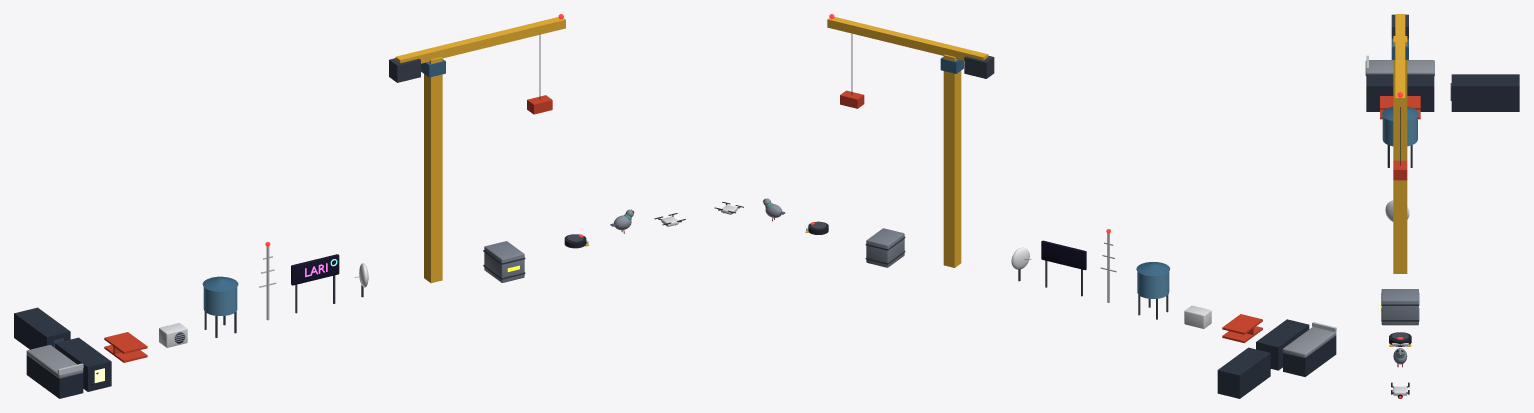
Rendered from kit_kota.glb.
The picture shows the model from 3 angles, left to right: view 1: azimuth 30°, elevation 25°; view 2: azimuth 150°, elevation 25°; view 3: azimuth 270°, elevation 25°; orthographic projection. The views are drawn at different scales.
Visible parts, largest first — view 1: CraneMast, CraneJib, KotaTF2, kota_TF, KotaBoxBody, kota_TT_dirt, NeonBoard, kota_TT_cap, TankBody, CraneWeight; view 2: CraneMast, KotaTF2, CraneJib, kota_TF, KotaBoxBody, kota_TT_dirt, NeonBoard, kota_TT_cap, TankBody, CraneWeight; view 3: KotaTF2, CraneMast, kota_TF, KotaBoxBody, CraneJib, kota_TT_cap, TankBody, GirderTop, CraneLoad, TankLid, CraneWeight, DishBowl (+2 smaller).
Part boxes in pixels (<box>): CraneMast: <box>424,57,442,283</box>; CraneJib: <box>395,17,565,63</box>; KotaTF2: <box>14,307,70,349</box>; kota_TF: <box>55,337,111,391</box>; KotaBoxBody: <box>484,241,524,282</box>; kota_TT_dirt: <box>26,355,83,398</box>; NeonBoard: <box>291,254,339,285</box>; kota_TT_cap: <box>26,345,83,378</box>; TankBody: <box>203,287,237,315</box>; CraneWeight: <box>389,58,420,82</box>; CraneMast: <box>943,54,961,267</box>; KotaTF2: <box>1217,347,1270,398</box>; CraneJib: <box>827,17,988,60</box>; kota_TF: <box>1256,319,1309,370</box>; KotaBoxBody: <box>866,228,904,267</box>; kota_TT_dirt: <box>1283,336,1336,376</box>; NeonBoard: <box>1041,240,1086,270</box>; kota_TT_cap: <box>1282,327,1336,357</box>; TankBody: <box>1137,271,1169,298</box>; CraneWeight: <box>964,55,994,78</box>; KotaTF2: <box>1451,74,1519,111</box>; CraneMast: <box>1393,36,1407,273</box>; kota_TF: <box>1366,74,1434,111</box>; KotaBoxBody: <box>1381,289,1418,325</box>; CraneJib: <box>1395,14,1405,106</box>; kota_TT_cap: <box>1365,60,1434,75</box>; TankBody: <box>1382,117,1417,146</box>; GirderTop: <box>1380,96,1420,109</box>; CraneLoad: <box>1393,160,1407,180</box>; TankLid: <box>1381,106,1418,120</box>; CraneWeight: <box>1391,14,1408,38</box>; DishBowl: <box>1385,200,1409,221</box>.
Size of the model in its own units: 27 by 9.95 by 5.43.
